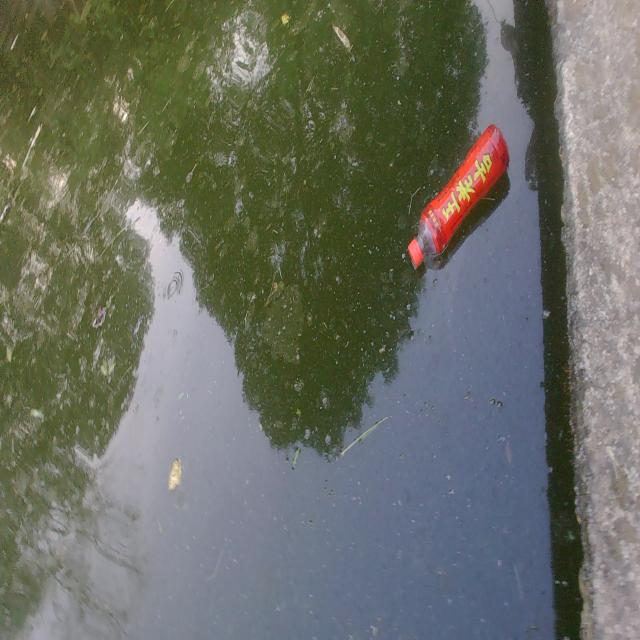Bottle: (405, 119, 511, 271)
